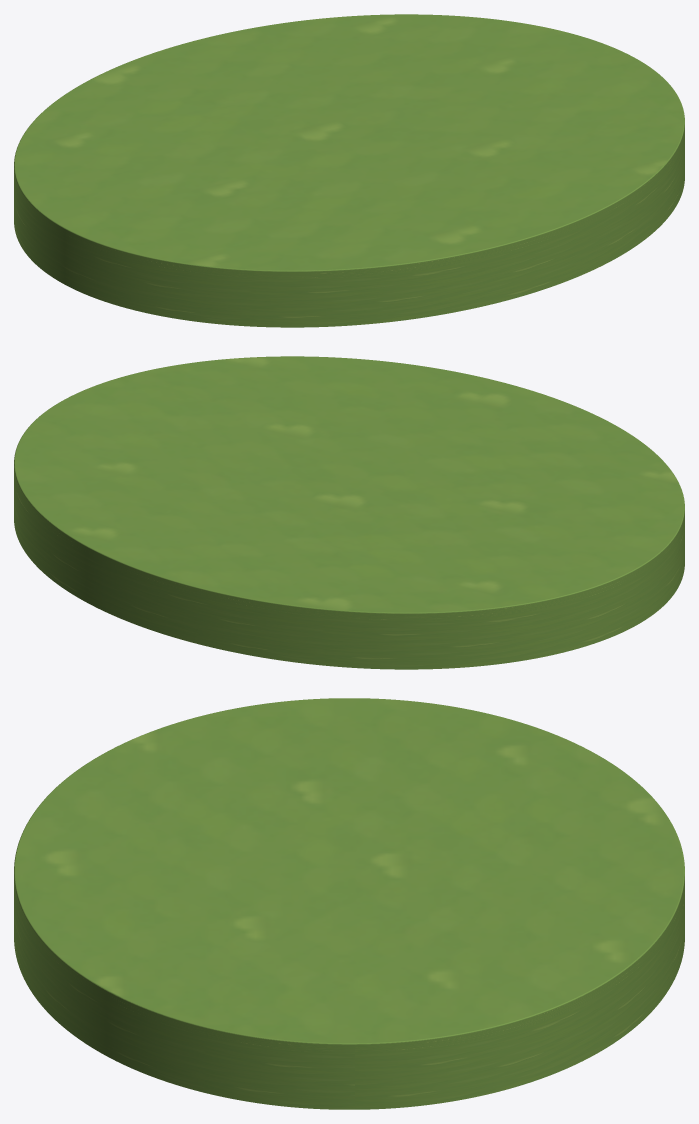
File: starter-12.glb
The picture shows the model from 3 angles, top to bottom: view 1: azimuth 30°, elevation 25°; view 2: azimuth 150°, elevation 25°; view 3: azimuth 270°, elevation 25°; orthographic projection. The views are drawn at different scales.
Visible parts, largest first — view 1: geometry_0; view 2: geometry_0; view 3: geometry_0.
Part boxes in pixels (bbox=[...]): geometry_0: bbox=[14, 14, 684, 327]; geometry_0: bbox=[14, 356, 684, 669]; geometry_0: bbox=[14, 698, 684, 1109].
Bounding box in the file's own units: 67.34 × 6 × 55.2.
1 material, 1 textured.
